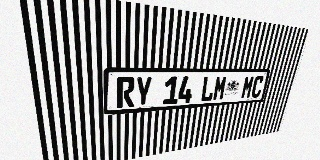1: (163, 76, 180, 105)
4: (177, 76, 194, 104)
C: (250, 75, 265, 98)
L: (200, 76, 216, 102)
M: (212, 76, 228, 101), (240, 76, 255, 99)
R: (117, 77, 135, 108)
Y: (135, 77, 152, 107)
